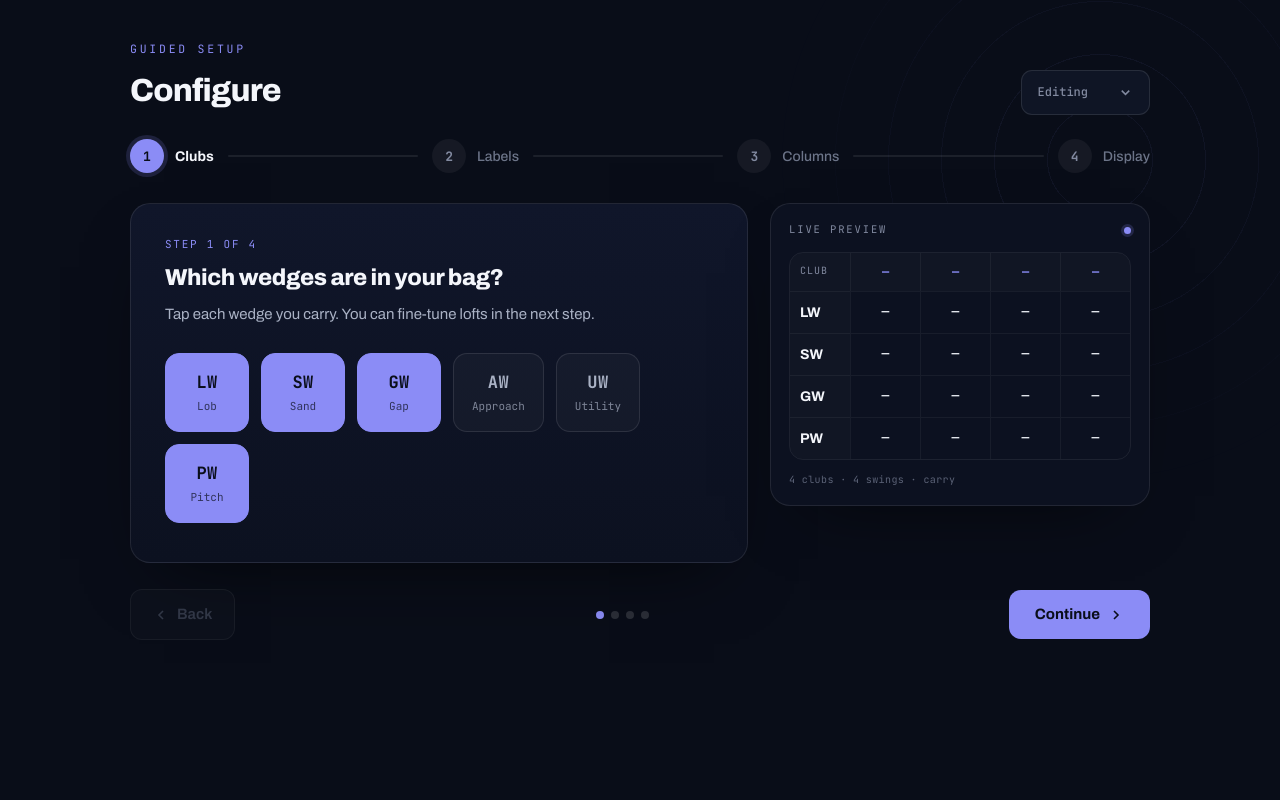
Scenario: ConfigureView › Wizard Navigation › goes back to the previous step when Back is clicked
Click the button with test id "wizard-next-button". click: (1079, 615)
box: left=1009, top=590, right=1150, bottom=639
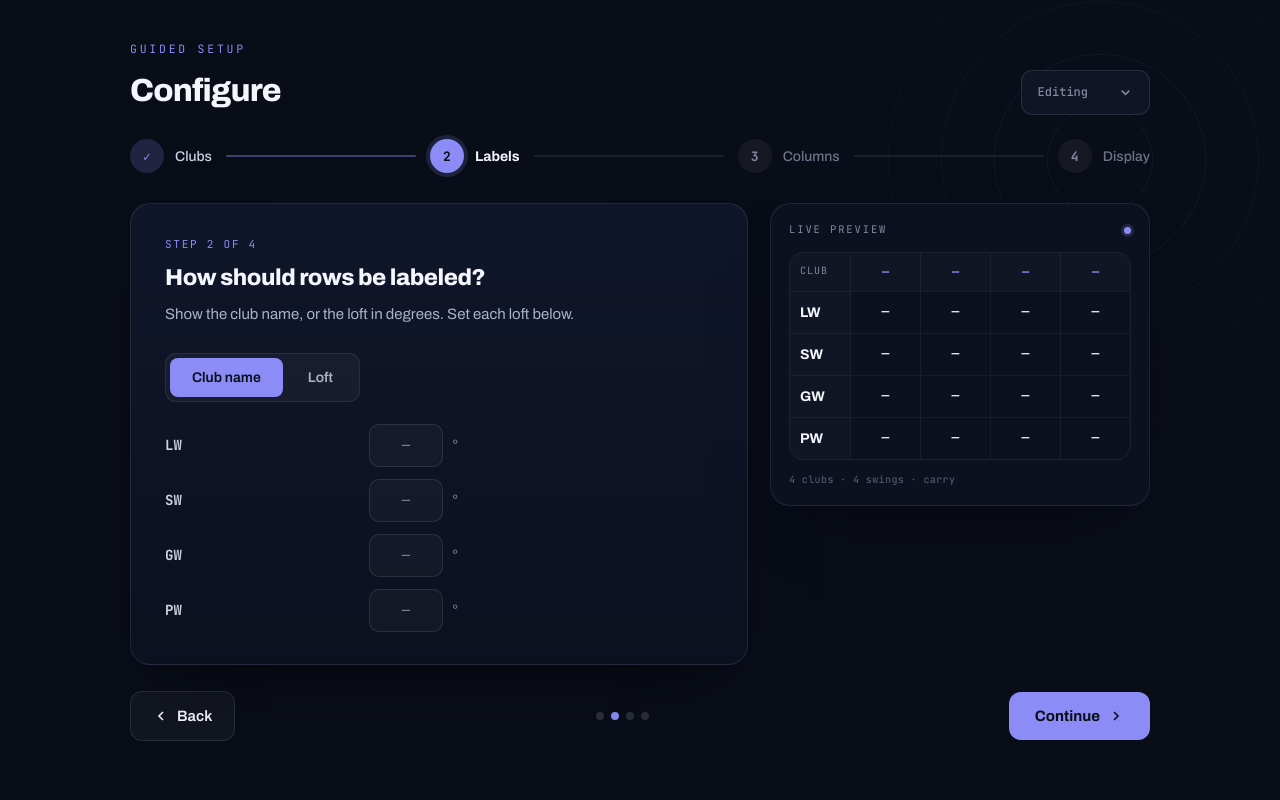
Click the button with test id "wizard-back-button". click: (183, 716)
box: left=130, top=690, right=235, bottom=741
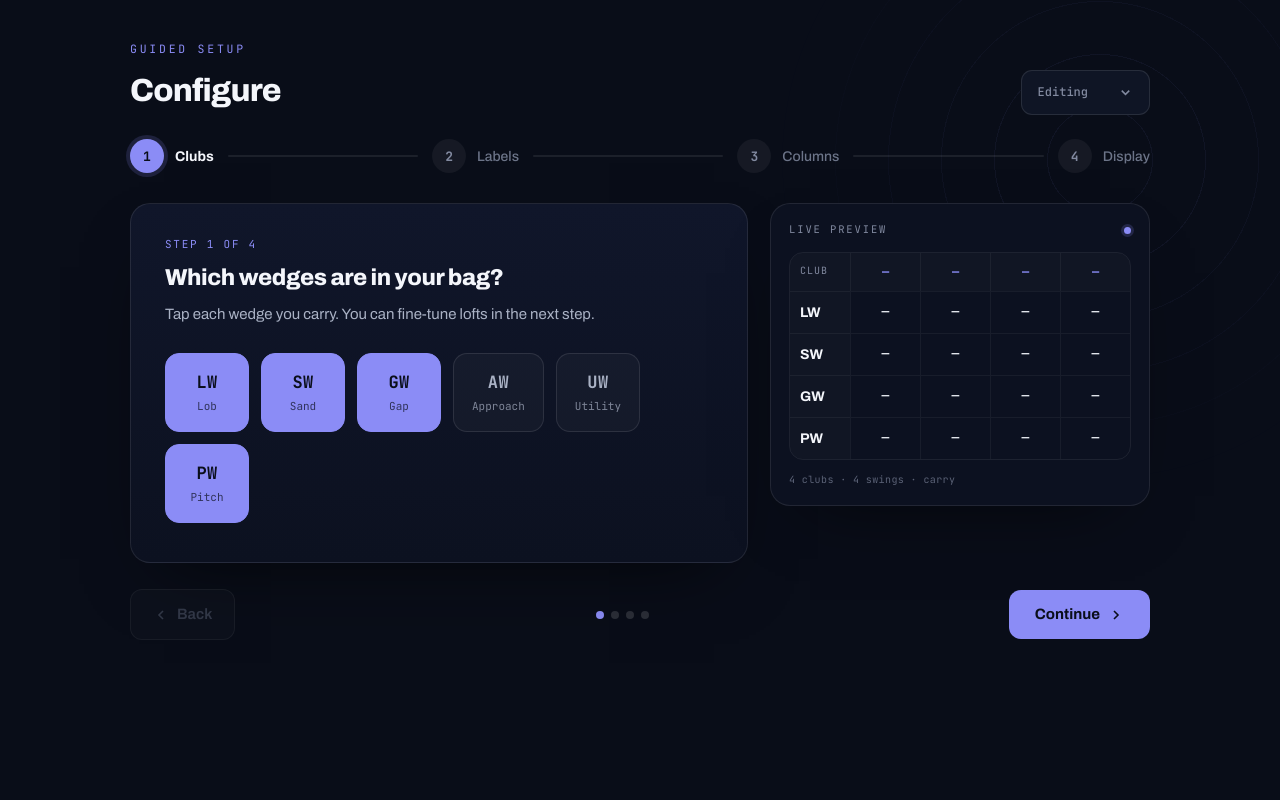
Expected: the text "Step 1 of 4" is shown, left=165, top=237, right=257, bottom=251
